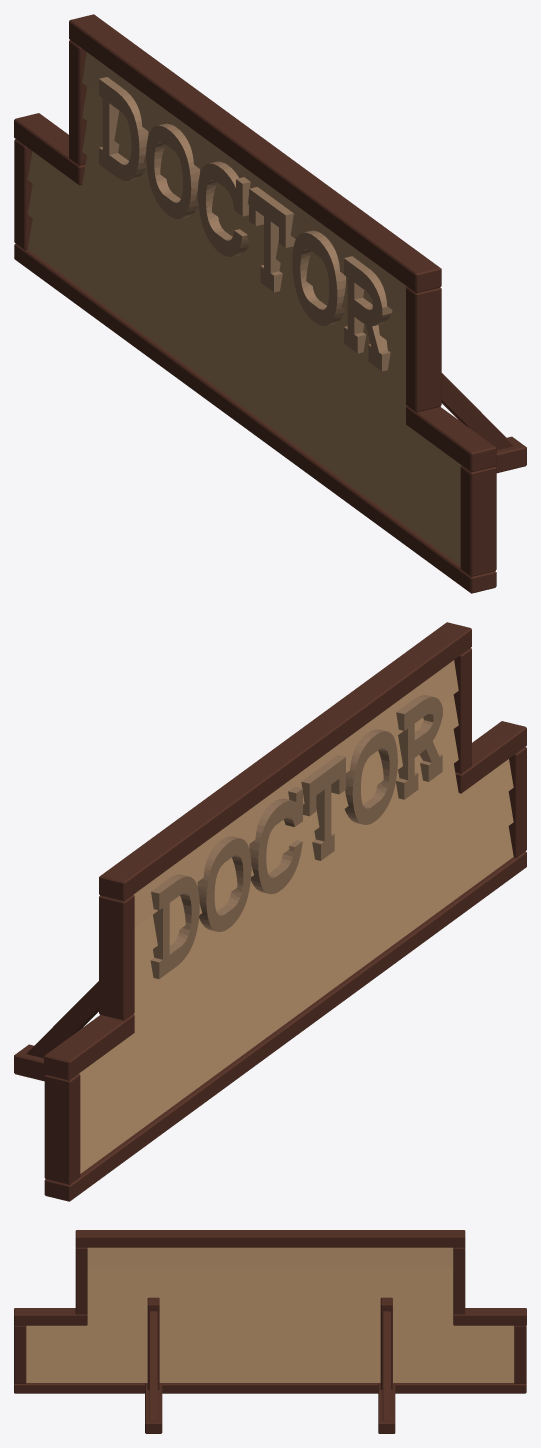
The model's file is Doctor Sign C.glb.
3 views of the same model, one above another, from view 1: azimuth 30°, elevation 25°; view 2: azimuth 150°, elevation 25°; view 3: azimuth 270°, elevation 25° (orthographic). The views are drawn at different scales.
Parts seen in each view (by area): view 1: Doctor Sign C; view 2: Doctor Sign C; view 3: Doctor Sign C.
Part boxes in pixels (<box>): Doctor Sign C: <box>14,14,526,593</box>; Doctor Sign C: <box>14,622,526,1201</box>; Doctor Sign C: <box>14,1230,526,1433</box>.
Bounding box in the file's own units: 146 × 223 × 660.
